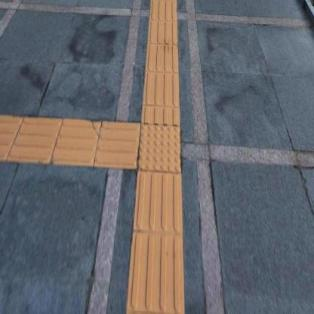Podoctatil: (119, 88, 203, 211), (120, 173, 187, 313), (0, 113, 135, 169), (143, 0, 182, 121)
